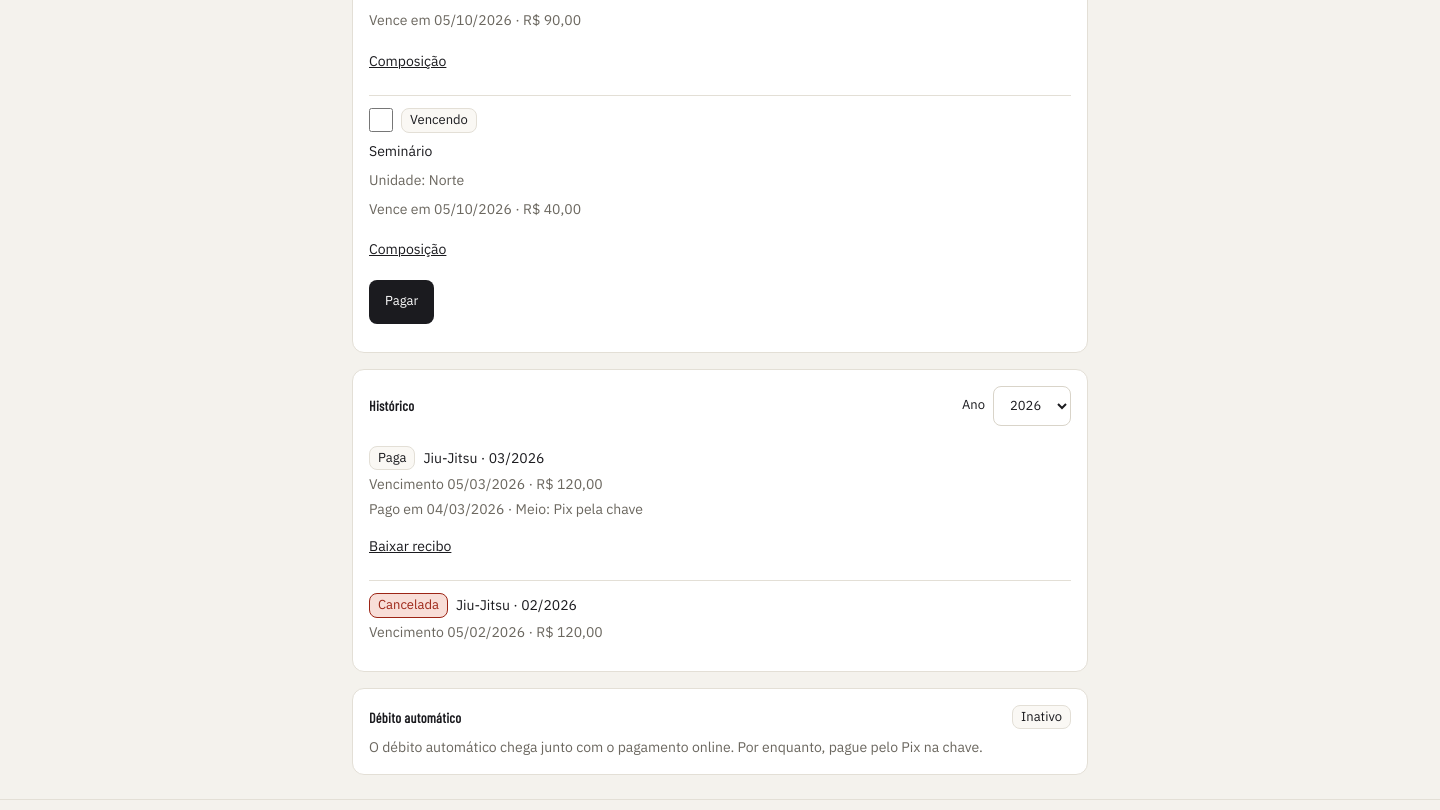
Test: PortalFinancePage (RF-POR-05) › CA9: trocar o ano refaz o histórico e muda ?ano=
(page scrolled)
Expected: the text "Pago em 04/03/2026 · Meio: Pix pela chave" is shown, [369,500,643,518]
Select "2025" in the dropdown labelled "Ano": (1032, 406) [993,386,1071,426]
(page scrolled)
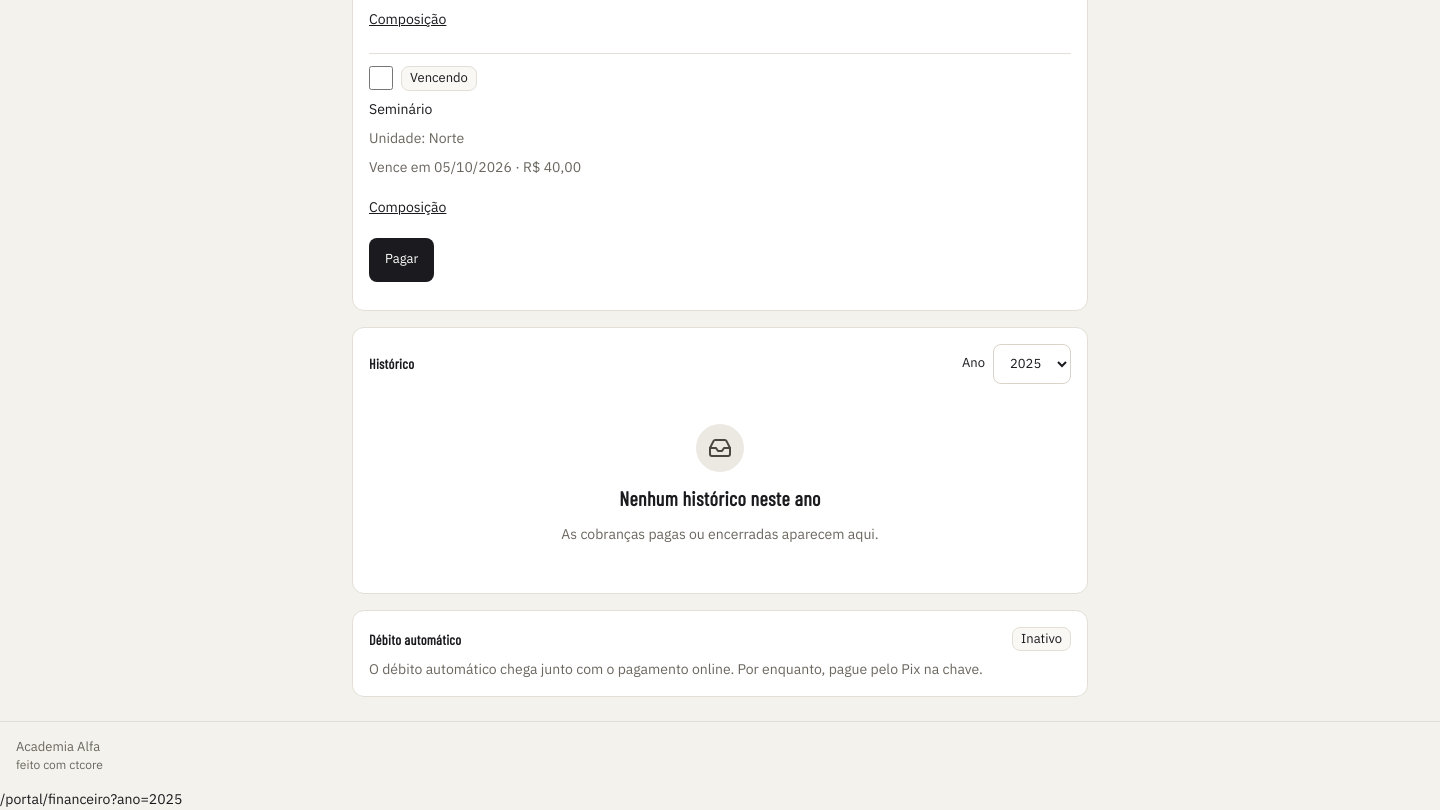
Result: the text with test id "where" reads "/portal/financeiro?ano=2025" at [0,790,182,808]
Result: the heading "Nenhum histórico neste ano" is shown at [619,484,821,512]
